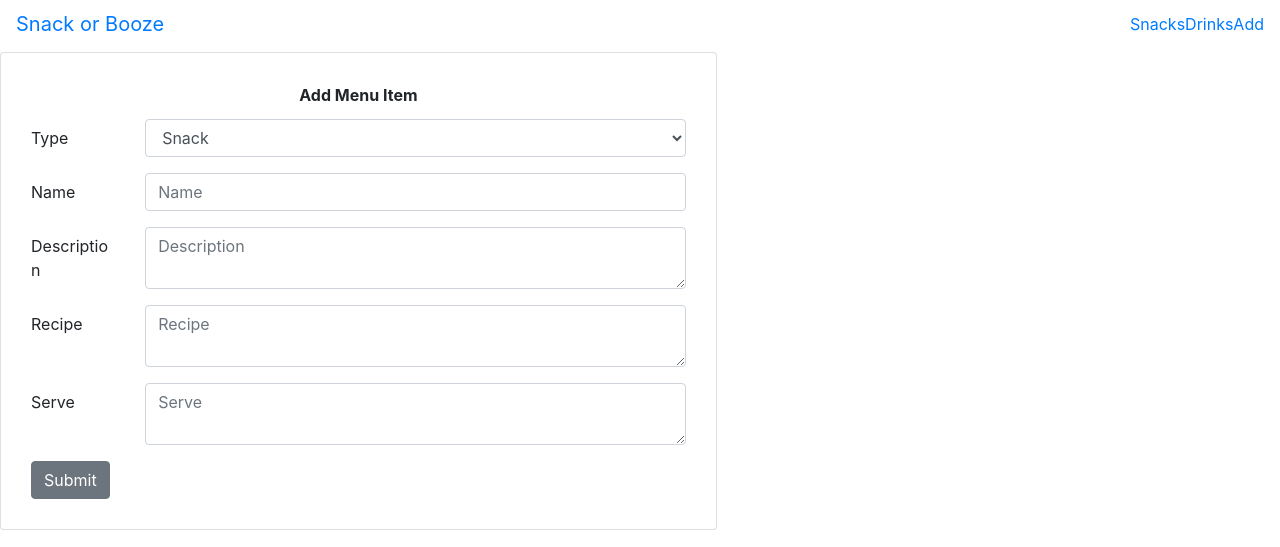
Test: test adding new menu items › should add new snack
Type "test snack 3" into the text box labelled "Description" at (415, 258), box [145,227,686,289]
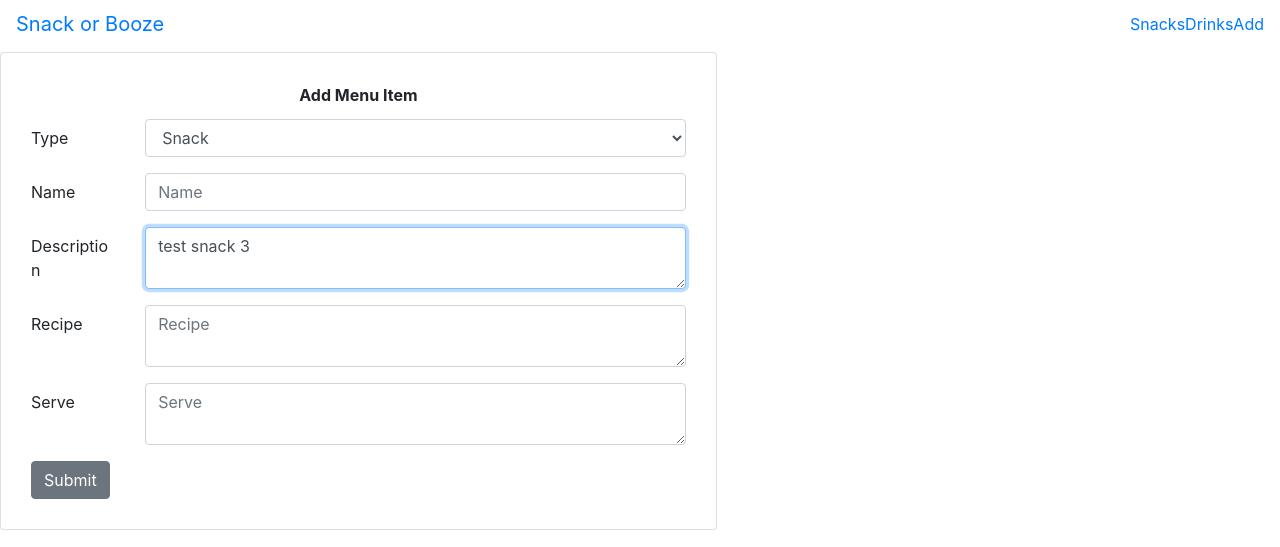
Type "test snack 3" into the text box labelled "Recipe" at (415, 336), box [145,305,686,367]
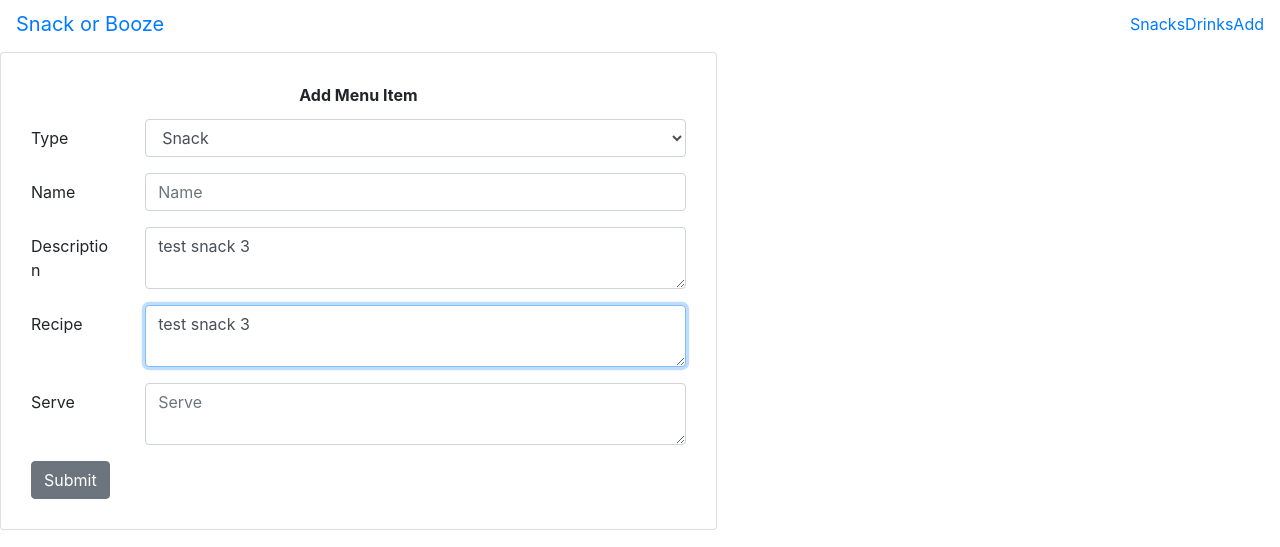
Type "test snack 3" into the text box labelled "Serve" at (415, 414), box [145,383,686,445]
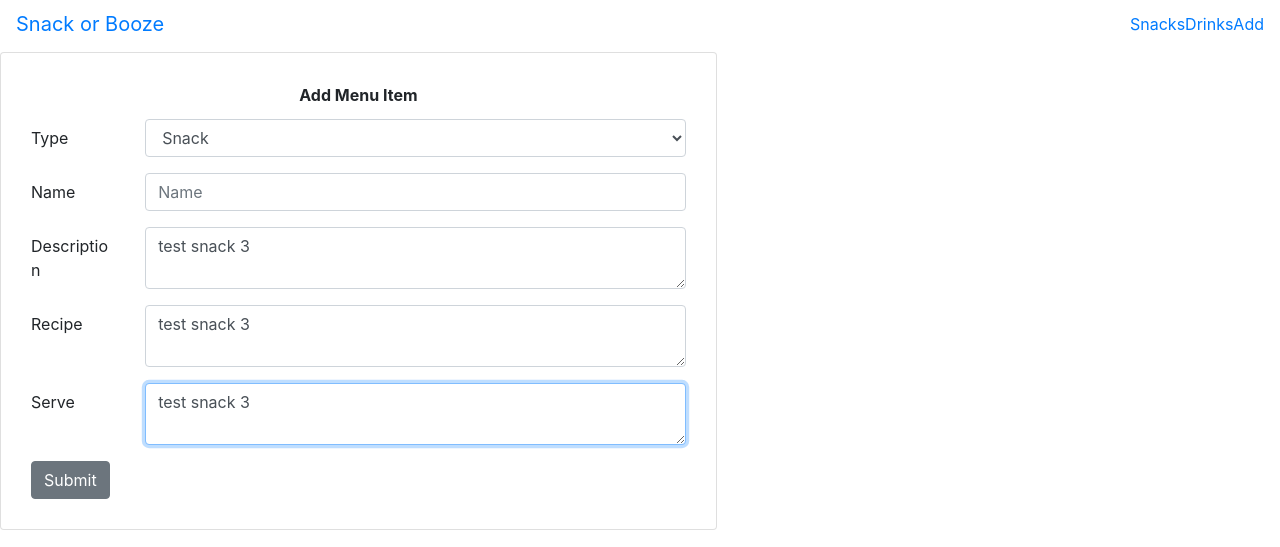
Type "test snack 3" into the field labelled "Name" at (415, 192), box [145,173,686,211]
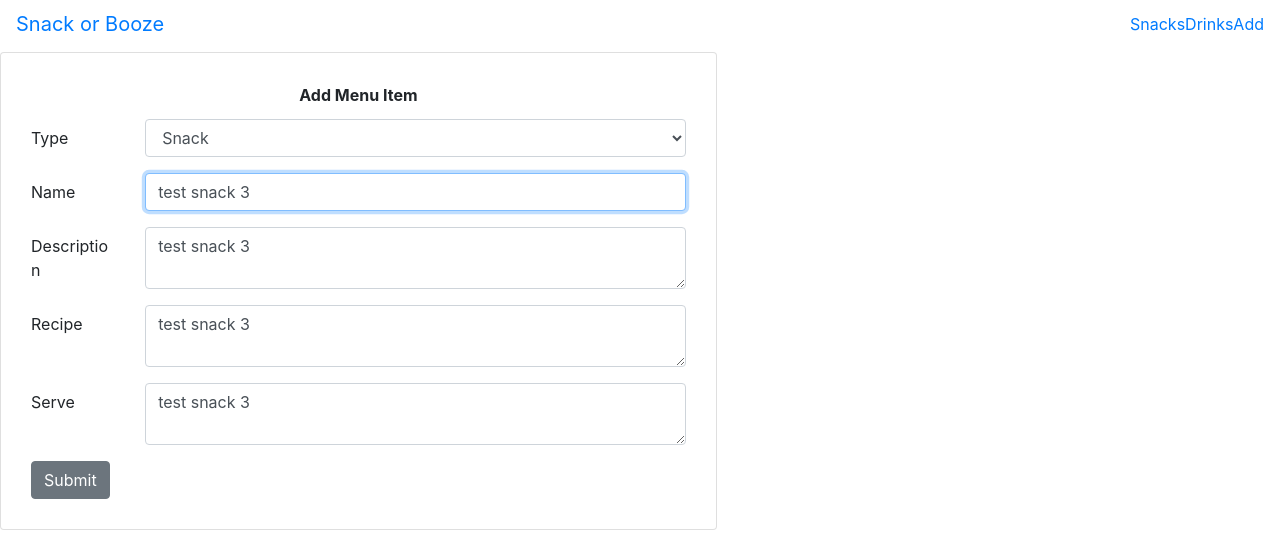
Click the button "Submit" at (70, 480), box [31,461,110,499]
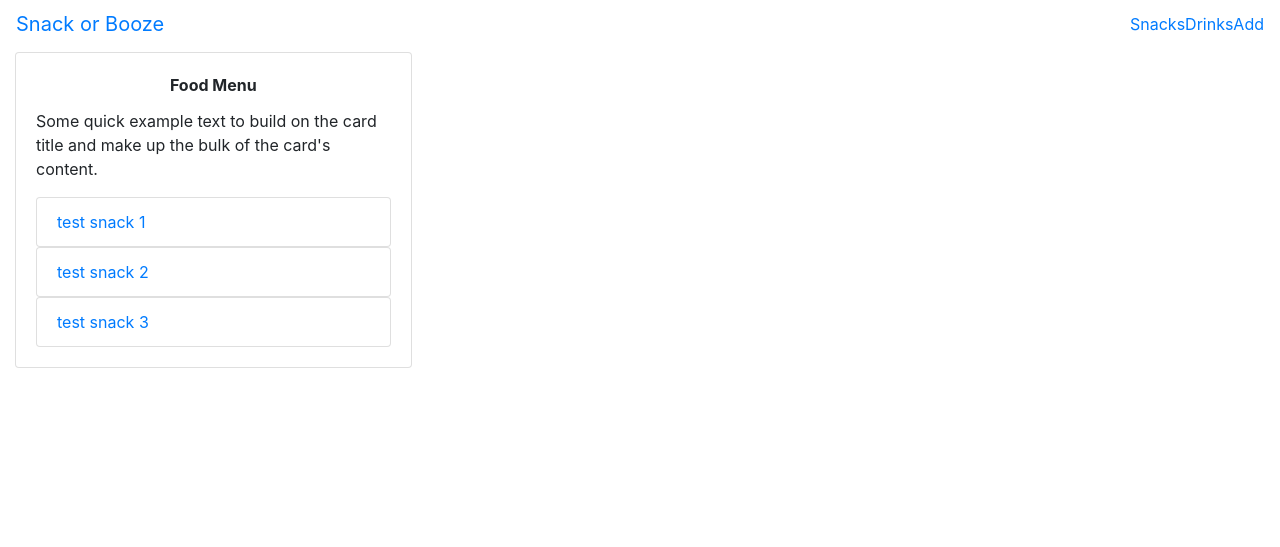
Now the text "Food Menu" is shown, box [170,75,257,95]
Now the list item "test snack 3" is shown, box [36,297,391,347]
